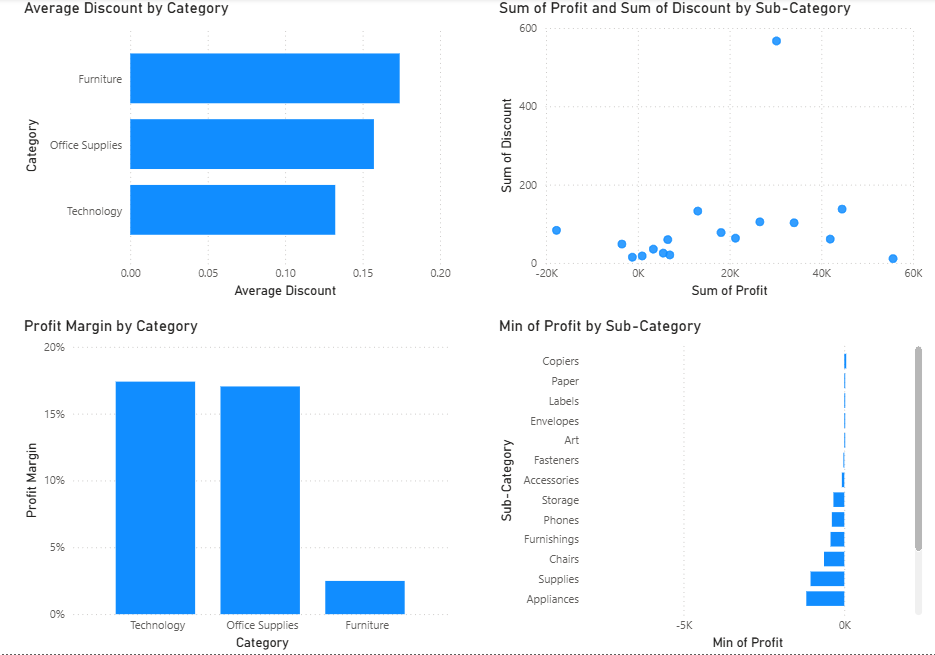

The dashboard page shown, as its layout file describes it:
{"tool":"powerbi","page":{"name":"Profitability and Discount analysis ","canvas":[1280,720],"ordinal":3},"visuals":[{"type":"clusteredBarChart","fields":{"Category":["SampleSuperstore.Category"],"Y":["SampleSuperstore.Average Discount"]},"box":[118,0,478.9,334.8],"z":0},{"type":"clusteredColumnChart","fields":{"Y":["SampleSuperstore.Profit Margin"],"Category":["SampleSuperstore.Category"]},"box":[118,349.9,478.9,370.5],"z":1000},{"type":"scatterChart","fields":{"X":["Sum(SampleSuperstore.Profit)"],"Category":["SampleSuperstore.Sub-Category"],"Y":["Sum(SampleSuperstore.Discount)"]},"box":[639.5,0,474.8,334.8],"z":2000},{"type":"barChart","fields":{"Category":["SampleSuperstore.Sub-Category"],"Y":["Min(SampleSuperstore.Profit)"]},"box":[639.5,349.9,474.8,370.5],"z":3000}]}

Visuals, with their boxes on the page's 1280x720 design canvas (x1, y1, x2, y2). These are canvas units, not pixel positions in the 935x655 screenshot, which may show the page scaled, cropped or inside an application window:
clusteredBarChart - SampleSuperstore.Category x SampleSuperstore.Average Discount: Rect(118, 0, 597, 335)
clusteredColumnChart - SampleSuperstore.Profit Margin x SampleSuperstore.Category: Rect(118, 350, 597, 720)
scatterChart - Sum(SampleSuperstore.Profit) x SampleSuperstore.Sub-Category: Rect(640, 0, 1114, 335)
barChart - SampleSuperstore.Sub-Category x Min(SampleSuperstore.Profit): Rect(640, 350, 1114, 720)
